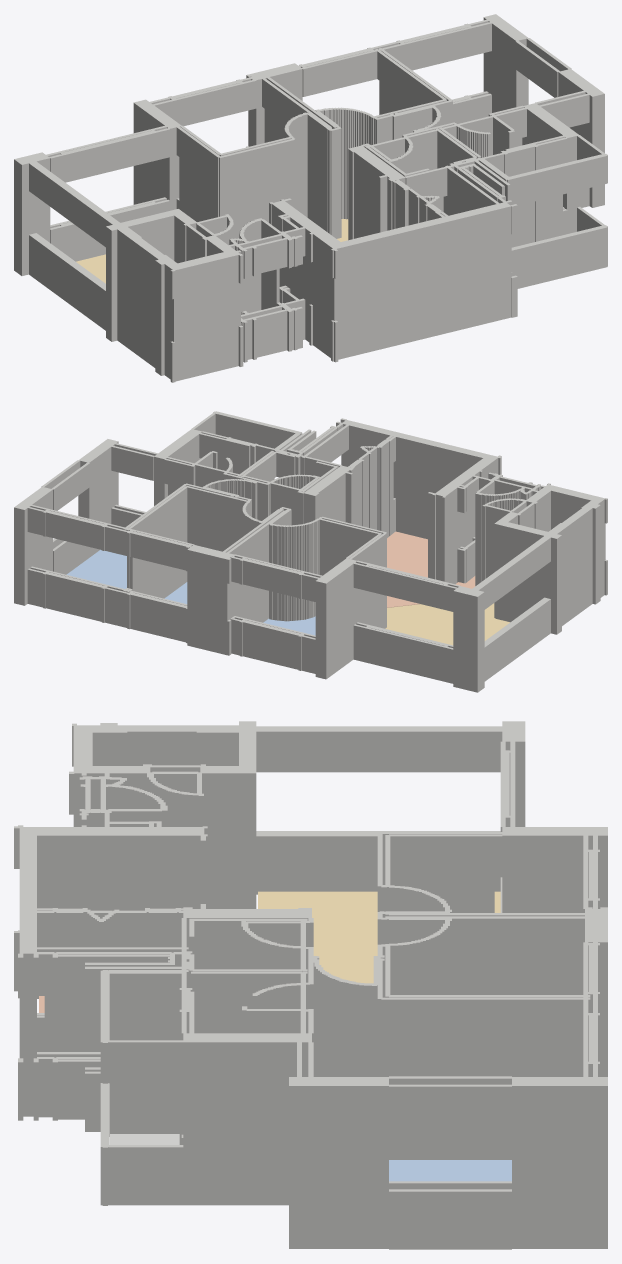
The picture shows the model from 3 angles, top to bottom: view 1: azimuth 30°, elevation 25°; view 2: azimuth 150°, elevation 25°; view 3: azimuth 270°, elevation 25°; orthographic projection. The views are drawn at different scales.
Parts seen in each view (by area): view 1: walls, room:living:3; view 2: walls, room:living:3, room:kitchen:5, room:bedroom:1, room:bedroom:0; view 3: walls, room:living:3, room:bedroom:1, room:ledge:7.
Boxes of the visible parts, x1,y1,x2,y2 form: walls: (14,14,607,382); room:living:3: (76,219,348,283); walls: (14,411,607,692); room:living:3: (385,603,509,645); room:kitchen:5: (387,531,475,607); room:bedroom:1: (66,549,126,588); room:bedroom:0: (263,616,315,635); walls: (14,721,607,1249); room:living:3: (258,891,500,983); room:bedroom:1: (389,1160,511,1181); room:ledge:7: (110,1134,179,1144).
Bounding box in the file's own units: 13.46 × 2.8 × 9.25.
